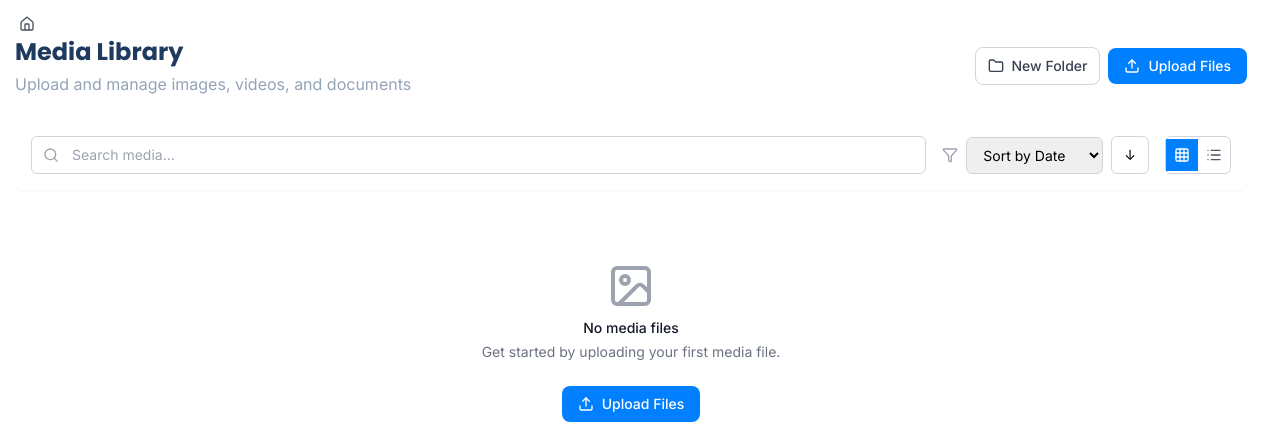
Scenario: MediaManager Component › should handle sort order toggle
What coordinates should you click on to do the following:
click the button "↓"
I would click on:
 (1130, 155)
Its box is [1111,136,1149,174].
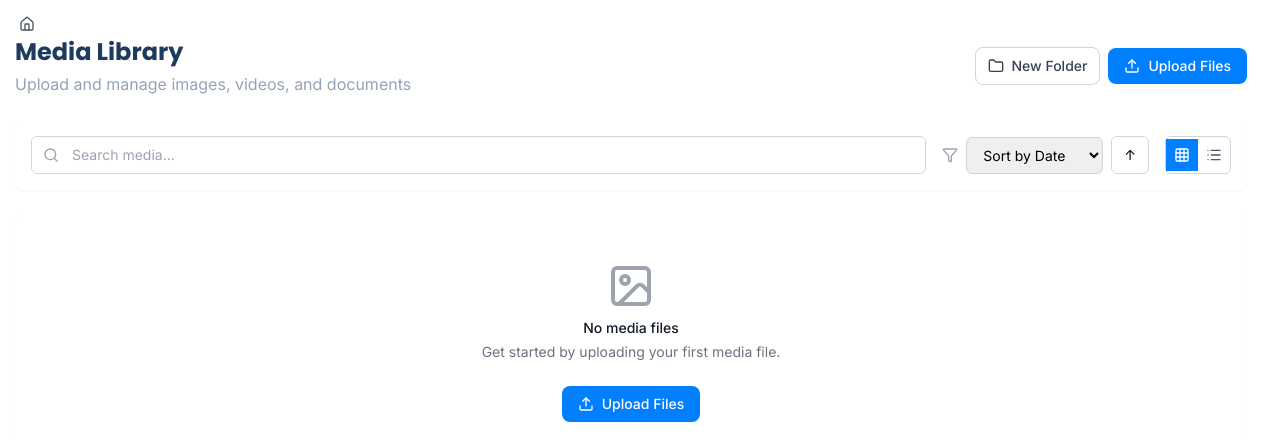
Expected: the button "↑" is shown, [1111,136,1149,174]
